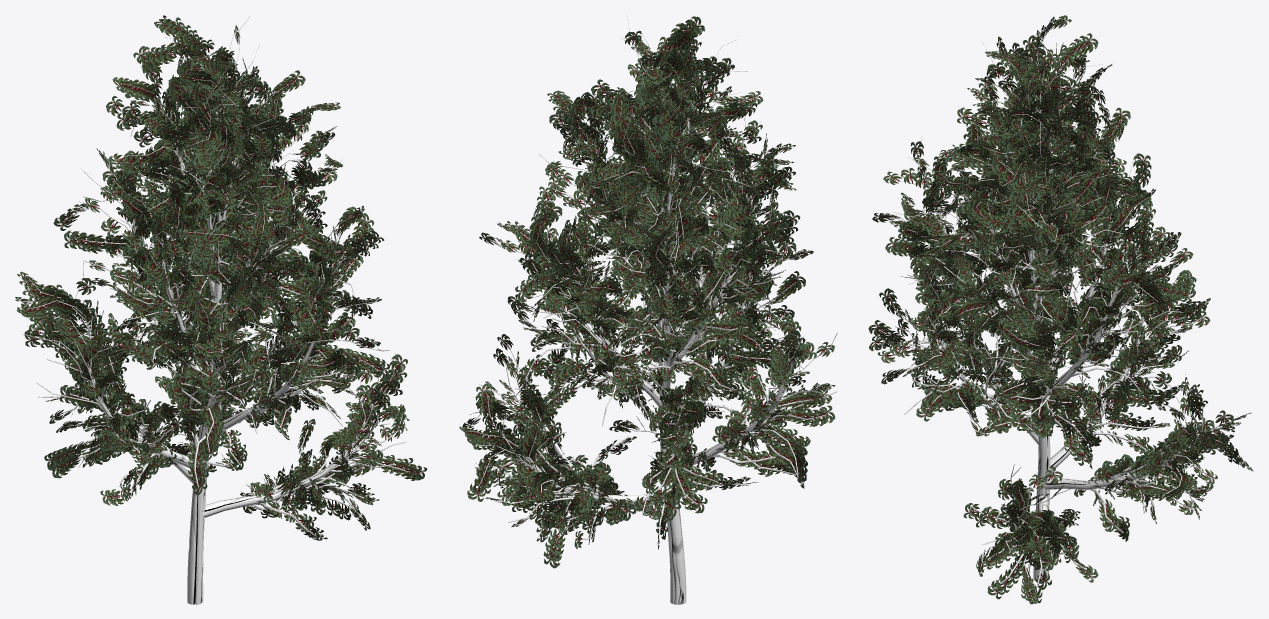
The model's file is eucalyptus.4.5.3.fbx.
3 views of the same model, side by side, from view 1: azimuth 30°, elevation 25°; view 2: azimuth 150°, elevation 25°; view 3: azimuth 270°, elevation 25° (orthographic). The views are drawn at different scales.
Visible parts, largest first — view 1: plant_pmat4, plant_pmat3, plant_pmat2, plant_pmat1; view 2: plant_pmat4, plant_pmat3, plant_pmat2, plant_pmat1; view 3: plant_pmat4, plant_pmat3, plant_pmat2, plant_pmat1.
Boxes of the visible parts, x1,y1,x2,y2 form: plant_pmat4: [15, 15, 427, 540]; plant_pmat3: [20, 16, 411, 536]; plant_pmat2: [87, 102, 358, 517]; plant_pmat1: [187, 244, 221, 604]; plant_pmat4: [459, 16, 835, 568]; plant_pmat3: [468, 15, 837, 548]; plant_pmat2: [526, 106, 785, 519]; plant_pmat1: [658, 250, 686, 604]; plant_pmat4: [868, 15, 1253, 604]; plant_pmat3: [876, 27, 1246, 602]; plant_pmat2: [938, 94, 1177, 528]; plant_pmat1: [1031, 250, 1050, 581].
Size of the model in its own units: 357 by 539 by 342.
